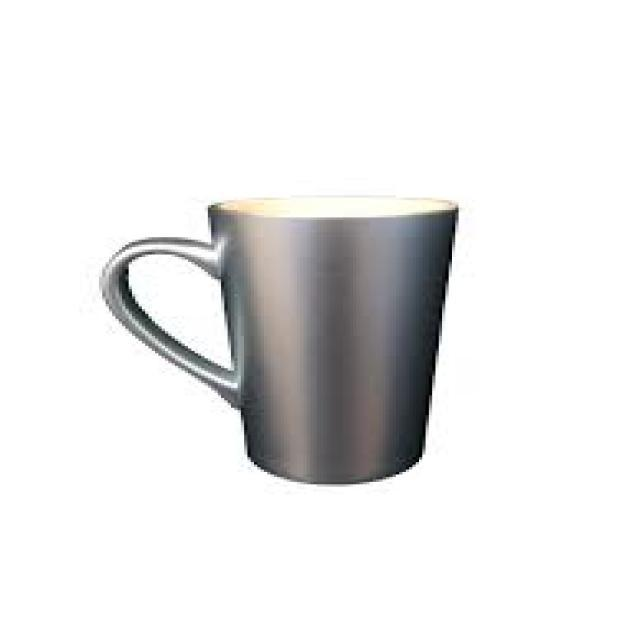taza: (99, 194, 458, 487)
